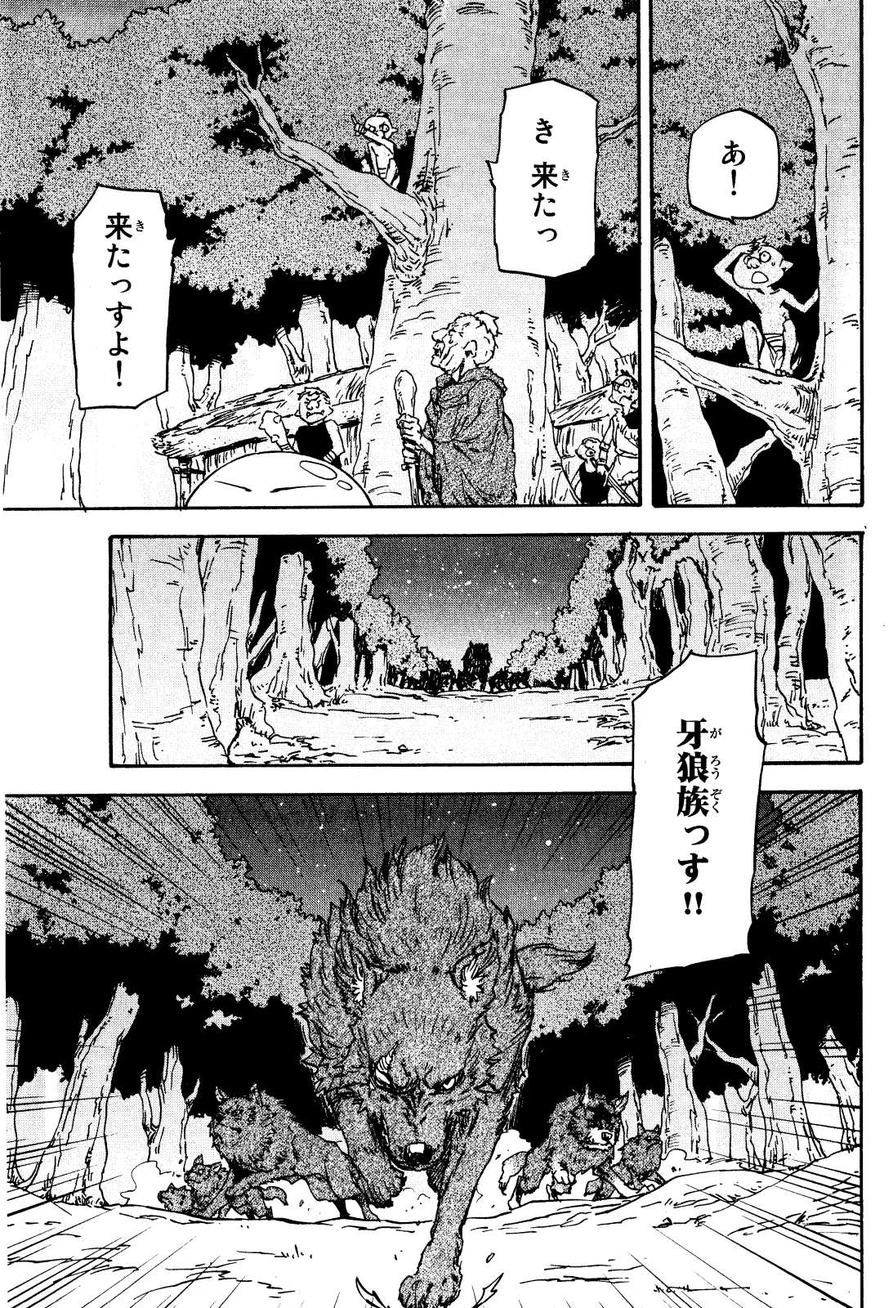bubbles: (621, 651, 771, 988), (63, 178, 181, 415), (480, 75, 605, 286), (682, 99, 791, 231)
